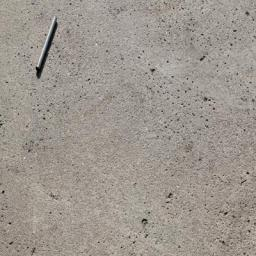FOD: (34, 14, 62, 82)
